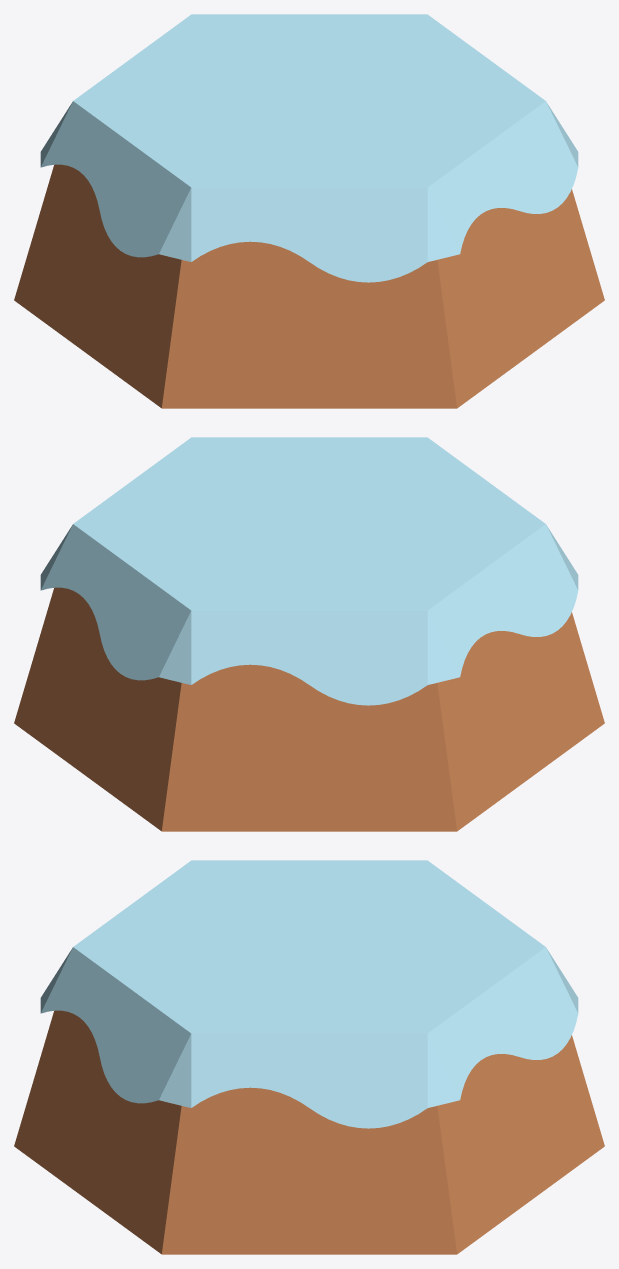
File: blockSnowHexagonLow.glb
3 renders of one model, top to bottom at view 1: azimuth 30°, elevation 25°; view 2: azimuth 150°, elevation 25°; view 3: azimuth 270°, elevation 25°, orthographic.
Visible parts, largest first — view 1: blockSnowHexagonLow; view 2: blockSnowHexagonLow; view 3: blockSnowHexagonLow.
Part boxes in pixels (left/top/right/bottom): blockSnowHexagonLow: left=14, top=14, right=604, bottom=408; blockSnowHexagonLow: left=14, top=437, right=604, bottom=831; blockSnowHexagonLow: left=14, top=860, right=604, bottom=1254.
Size of the model in its own units: 1 by 0.4298 by 1.15.
